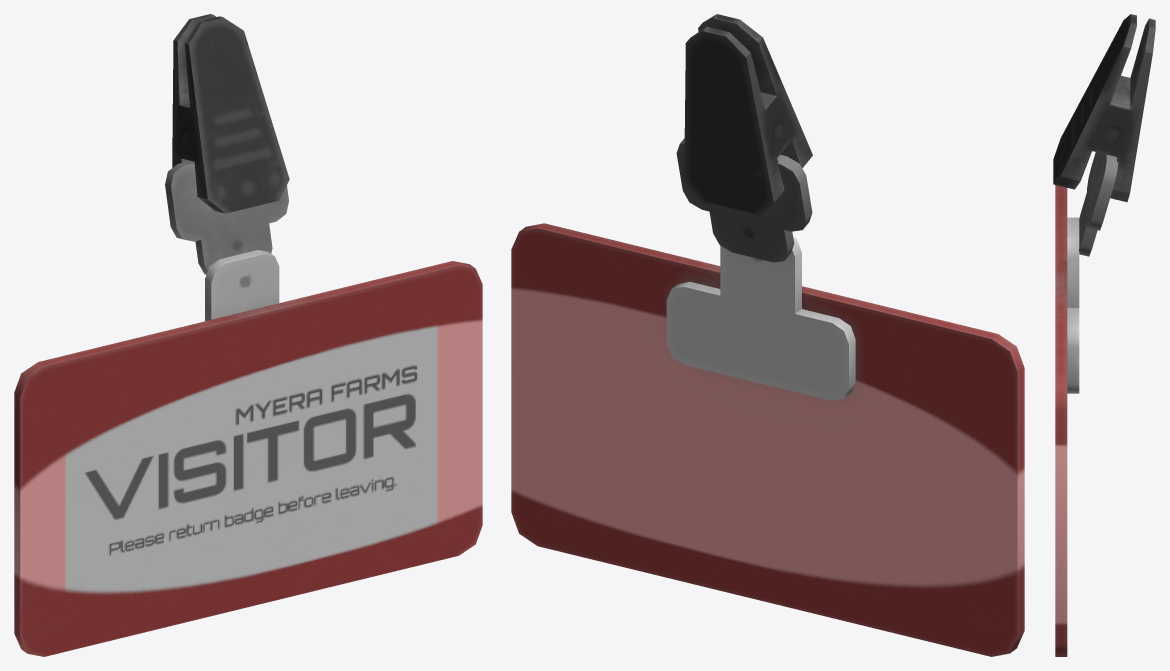
The model's file is SM_VisitorBadge_1.fbx.
The picture shows the model from 3 angles, left to right: view 1: azimuth 30°, elevation 25°; view 2: azimuth 150°, elevation 25°; view 3: azimuth 270°, elevation 25°; orthographic projection. The views are drawn at different scales.
Parts seen in each view (by area): view 1: SM_VisitorBadge_1; view 2: SM_VisitorBadge_1; view 3: SM_VisitorBadge_1.
Boxes of the visible parts, <box> form: SM_VisitorBadge_1: <box>14,14,482,656</box>; SM_VisitorBadge_1: <box>511,14,1024,656</box>; SM_VisitorBadge_1: <box>1053,14,1155,656</box>.
Bounding box in the file's own units: 8.56 × 9.87 × 1.69.
